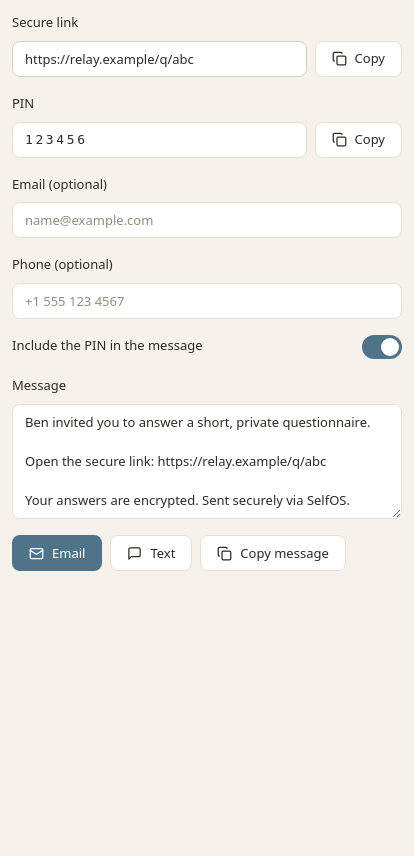
Scenario: RelayLinkDelivery email/phone validation (38 §3.9) › disables Text on a malformed phone, with a hint
The image size is (414, 856).
Type "12" into the field labelled "Phone (optional)" at point(207, 301), box [12,283,402,319]
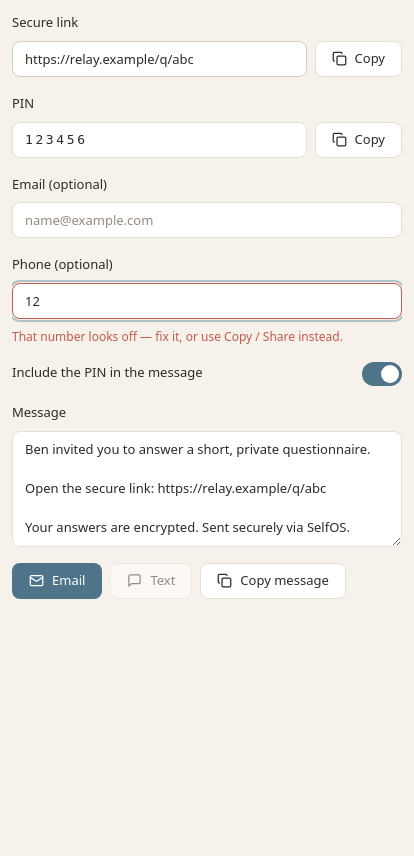
Check: the button "Text" is disabled, box [110,563,192,599]
Check: the text "That number looks off — fix it, or use Copy / Share instead." is shown, box [12,328,343,345]
